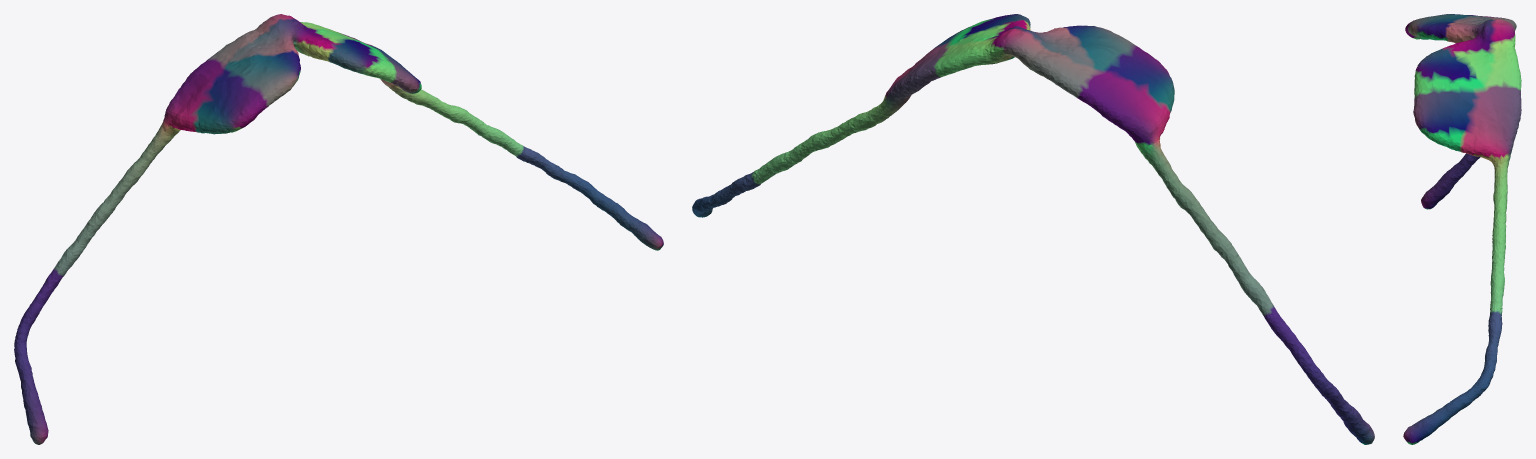
The model's file is glasses-9.off.obj.
3 renders of one model, left to right at view 1: azimuth 30°, elevation 25°; view 2: azimuth 150°, elevation 25°; view 3: azimuth 270°, elevation 25°, orthographic. The views are drawn at different scales.
Size of the model in its own units: 1.48 by 0.7542 by 0.2543.
